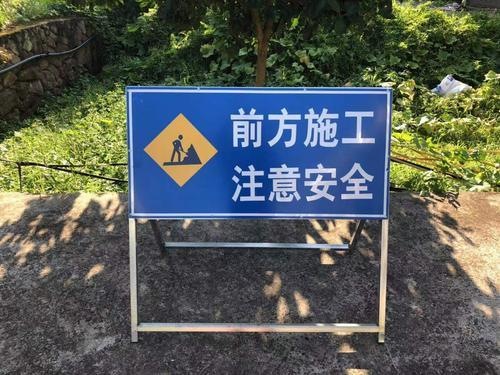sign: (128, 92, 389, 222)
